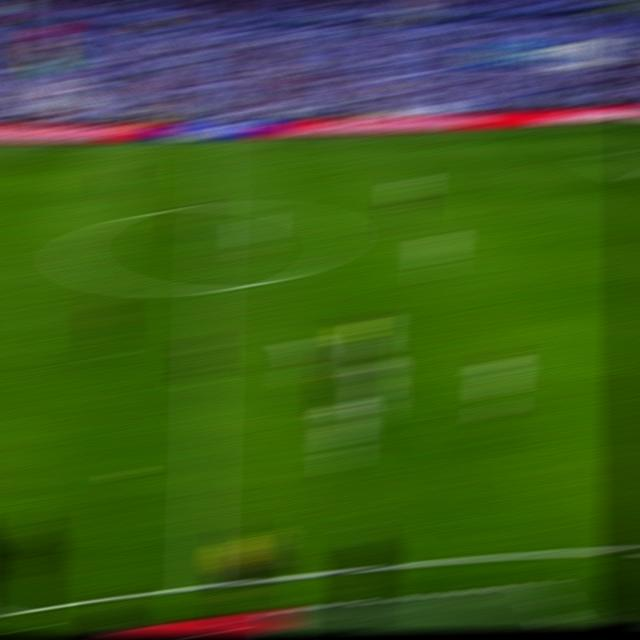halfcircle_bottom: (194, 278, 223, 298)
halfcircle_top: (197, 195, 225, 214)
midline_bottom_intersection: (184, 573, 217, 592)
midline_top_intersection: (200, 140, 226, 150)
